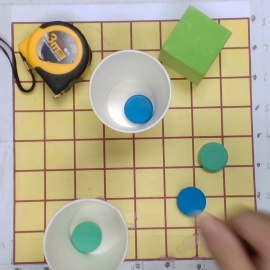blue: (177, 187, 206, 217)
cup_blue: (89, 50, 172, 135)
cup_green: (42, 192, 131, 270)
green: (199, 143, 228, 171)
